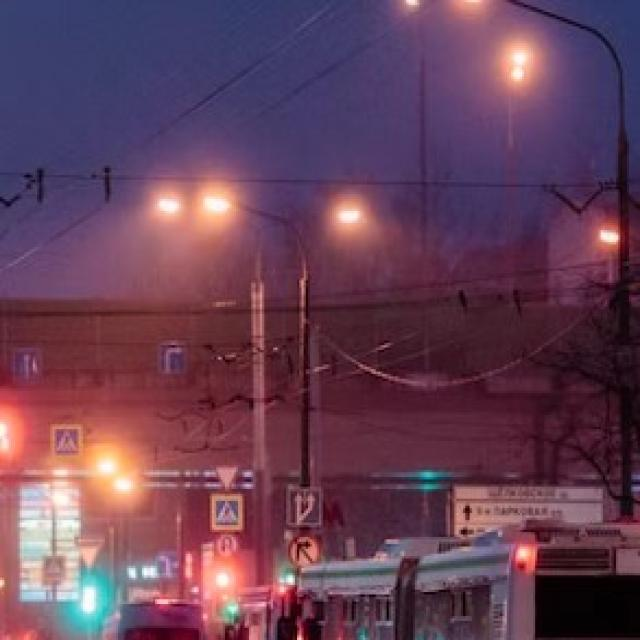bus: (295, 525, 640, 640), (220, 582, 302, 640)
car: (85, 601, 203, 640)
